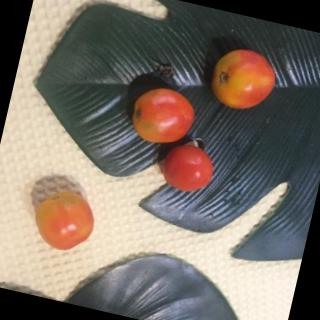Tomat: (22, 180, 109, 261), (203, 38, 286, 120), (152, 134, 231, 203), (124, 81, 200, 148)
